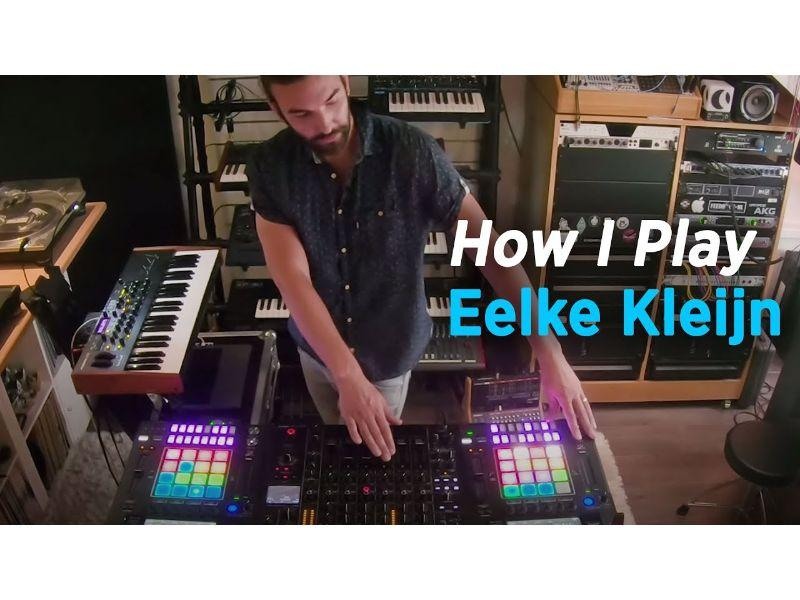synthesizer: (98, 217, 216, 392)
